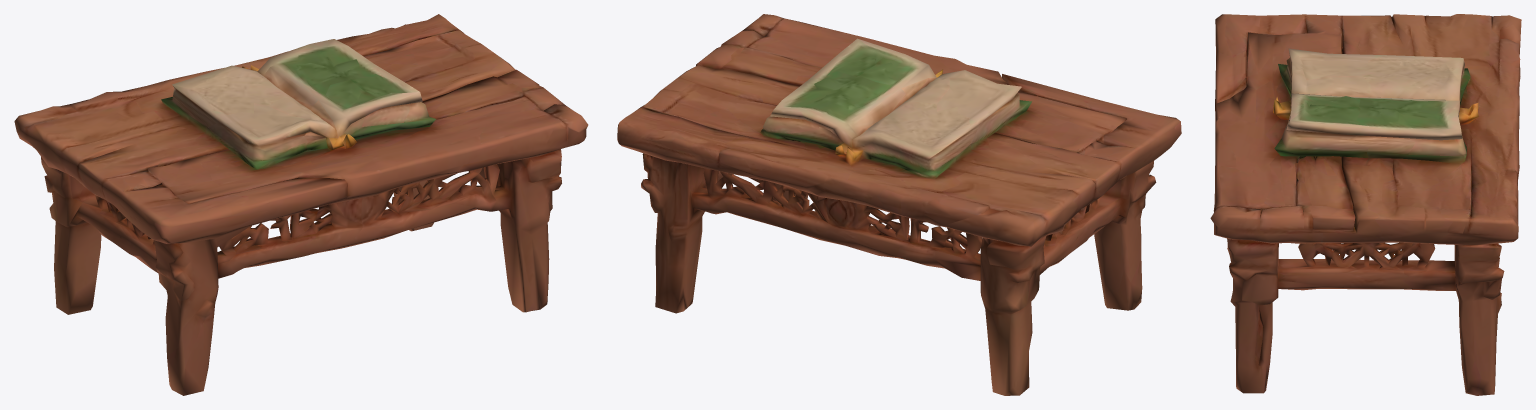
The model's file is table.glb.
3 views of the same model, side by side, from view 1: azimuth 30°, elevation 25°; view 2: azimuth 150°, elevation 25°; view 3: azimuth 270°, elevation 25° (orthographic).
Visible parts, largest first — view 1: tripo_node_28f36327-a7a2-46b7-ab59-2d657d55c082; view 2: tripo_node_28f36327-a7a2-46b7-ab59-2d657d55c082; view 3: tripo_node_28f36327-a7a2-46b7-ab59-2d657d55c082.
Part boxes in pixels (<box>): tripo_node_28f36327-a7a2-46b7-ab59-2d657d55c082: <box>14,14,588,395</box>; tripo_node_28f36327-a7a2-46b7-ab59-2d657d55c082: <box>617,14,1181,395</box>; tripo_node_28f36327-a7a2-46b7-ab59-2d657d55c082: <box>1210,14,1521,395</box>.
Size of the model in its own units: 0.9976 by 0.5001 by 0.6261.
1 material, 1 textured.
